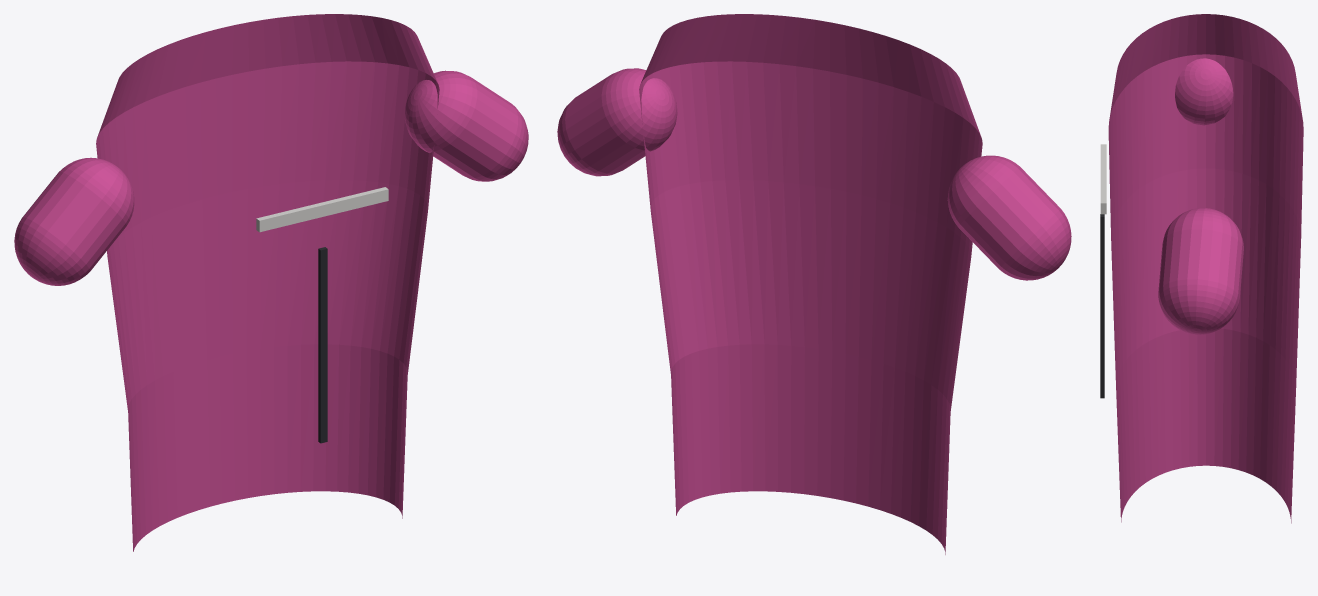
Rendered from jersey-women.glb.
3 renders of one model, left to right at view 1: azimuth 30°, elevation 25°; view 2: azimuth 150°, elevation 25°; view 3: azimuth 270°, elevation 25°, orthographic. The views are drawn at different scales.
Parts seen in each view (by area): view 1: GARMENT_TORSO, GARMENT_SLEEVE_-1, GARMENT_SLEEVE_1, GARMENT_CHEST_MARK, GARMENT_ZIP; view 2: GARMENT_TORSO, GARMENT_SLEEVE_-1, GARMENT_SLEEVE_1; view 3: GARMENT_TORSO, GARMENT_SLEEVE_1, GARMENT_SLEEVE_-1, GARMENT_ZIP, GARMENT_CHEST_MARK.
Part boxes in pixels (box(x1,y1,x2,y2)): GARMENT_TORSO: box(96, 14, 439, 551); GARMENT_SLEEVE_-1: box(14, 157, 134, 285); GARMENT_SLEEVE_1: box(404, 70, 528, 181); GARMENT_CHEST_MARK: box(256, 187, 388, 232); GARMENT_ZIP: box(318, 247, 327, 443); GARMENT_TORSO: box(639, 14, 982, 554); GARMENT_SLEEVE_-1: box(947, 155, 1071, 280); GARMENT_SLEEVE_1: box(557, 68, 677, 176); GARMENT_TORSO: box(1108, 14, 1303, 523); GARMENT_SLEEVE_1: box(1158, 208, 1243, 334); GARMENT_SLEEVE_-1: box(1175, 58, 1233, 125); GARMENT_ZIP: box(1100, 214, 1104, 398); GARMENT_CHEST_MARK: box(1100, 144, 1106, 214).
Bounding box in the file's own units: 1.09 × 0.98 × 0.4065.
